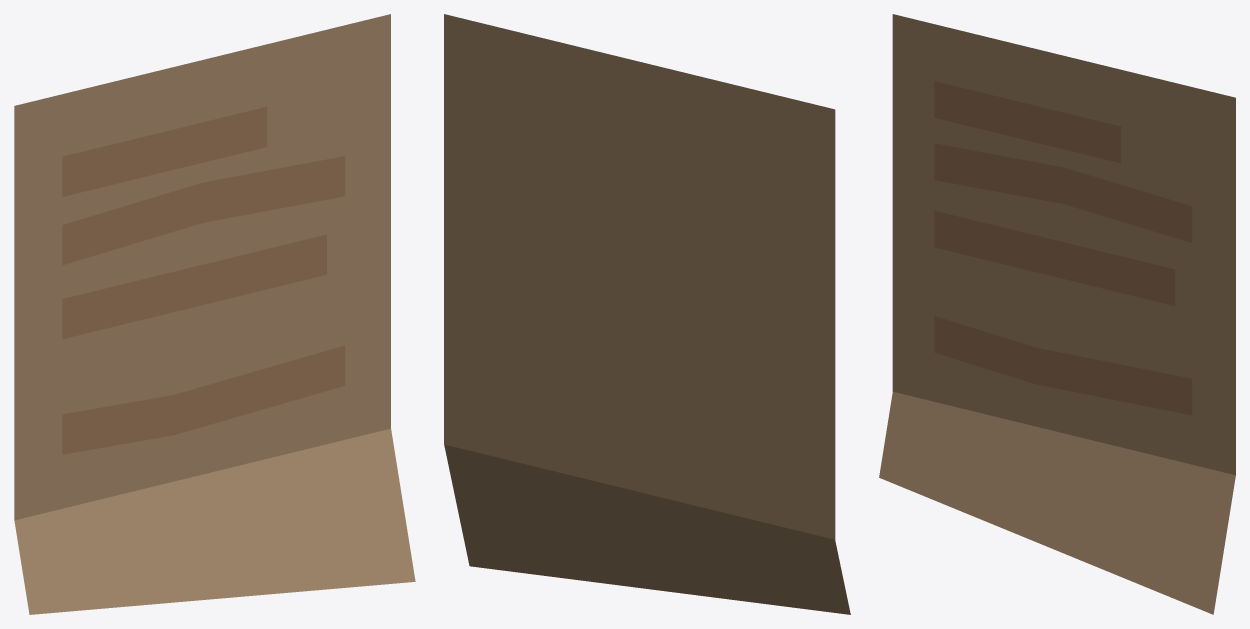
File: SM_Note_A.gltf
3 renders of one model, left to right at view 1: azimuth 30°, elevation 25°; view 2: azimuth 150°, elevation 25°; view 3: azimuth 330°, elevation 25°, orthographic. The views are drawn at different scales.
Visible parts, largest first — view 1: SM_Note_A; view 2: SM_Note_A; view 3: SM_Note_A.
Part boxes in pixels (<box>): SM_Note_A: <box>14,14,415,614</box>; SM_Note_A: <box>444,14,850,614</box>; SM_Note_A: <box>879,14,1235,614</box>.
Bounding box in the file's own units: 0.1864 × 0.26 × 0.021.
Materials: 1 (1 with a texture image).
